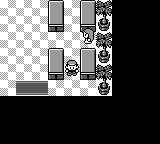main: (65, 61, 79, 76)
no-caminable: (0, 0, 159, 143), (96, 0, 112, 96), (48, 48, 64, 80), (81, 49, 96, 80), (49, 1, 63, 31), (81, 1, 95, 29)
npc: (82, 28, 95, 43)
puerta: (13, 79, 51, 96)
